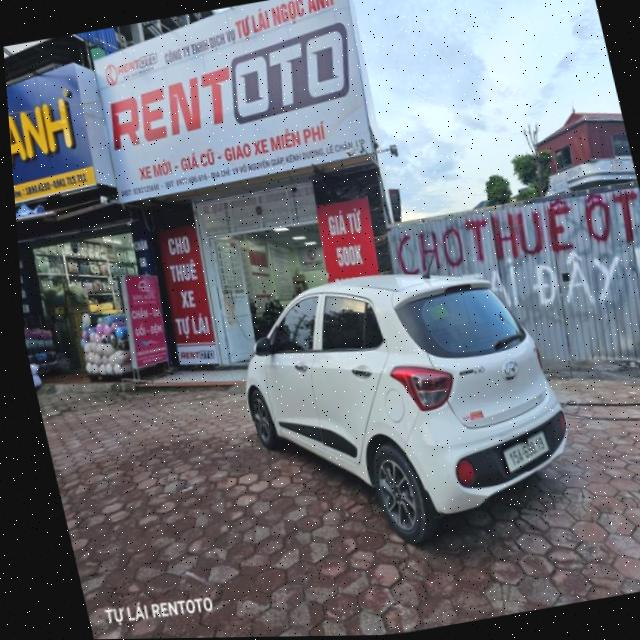car: (210, 243, 595, 559)
plate: (495, 425, 559, 478)
